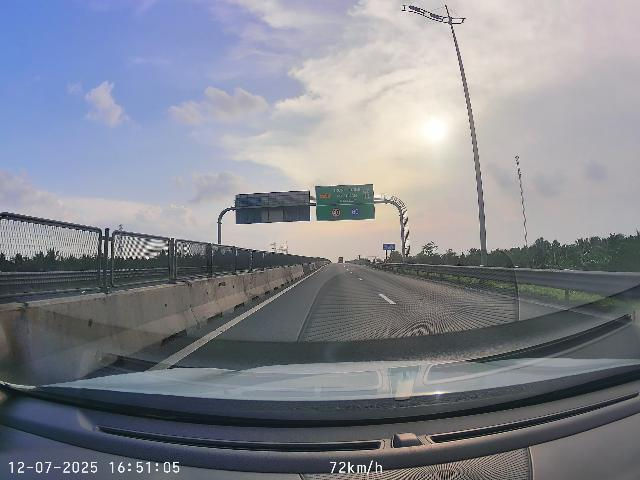127-toc-do-toi-da-90: (331, 207, 342, 218)
306-toc-do-toi-thieu-60: (350, 206, 361, 217)
437-bat-dau-duong-cao-toc: (363, 189, 371, 199)
